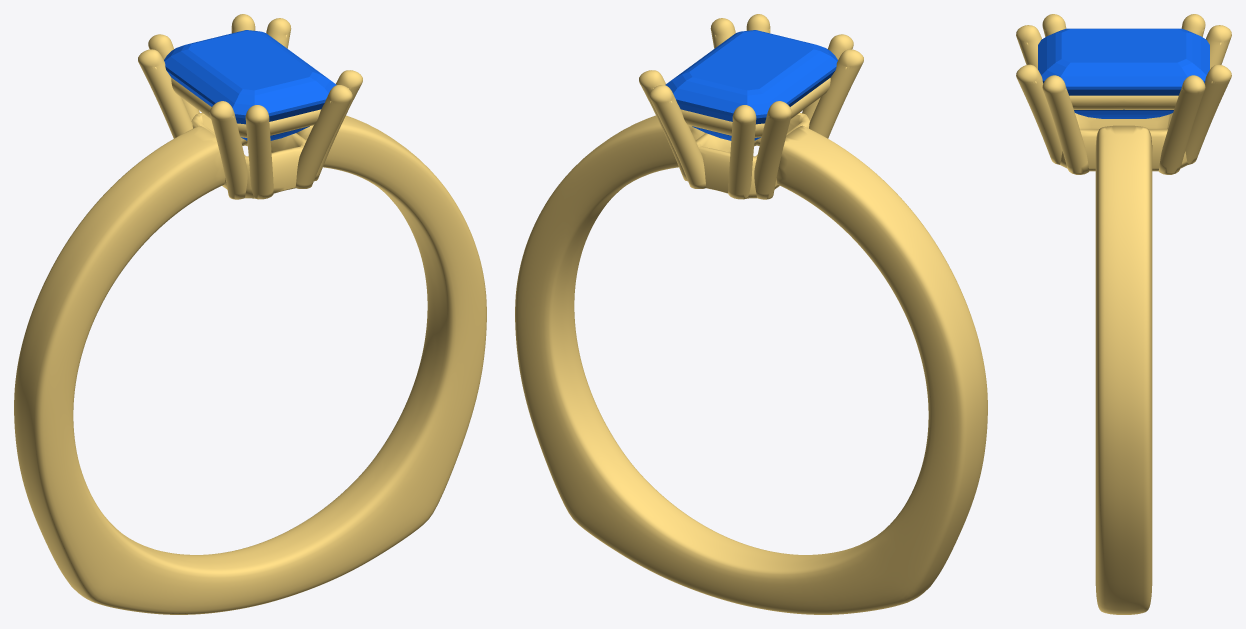
The model's file is bluesapphire-emerald-yellowgold-8prong-europeanshank-solitaire.glb.
3 views of the same model, side by side, from view 1: azimuth 30°, elevation 25°; view 2: azimuth 150°, elevation 25°; view 3: azimuth 270°, elevation 25° (orthographic).
Visible parts, largest first — view 1: metal, stone; view 2: metal, stone; view 3: metal, stone.
Boxes of the visible parts, left/top/right/bottom form: metal: left=14, top=14, right=486, bottom=614; stone: left=164, top=30, right=336, bottom=140; metal: left=515, top=14, right=987, bottom=614; stone: left=665, top=30, right=837, bottom=140; metal: left=1016, top=14, right=1231, bottom=614; stone: left=1038, top=28, right=1209, bottom=118.
Bounding box in the file's own units: 20.1 × 22.75 × 8.4.
